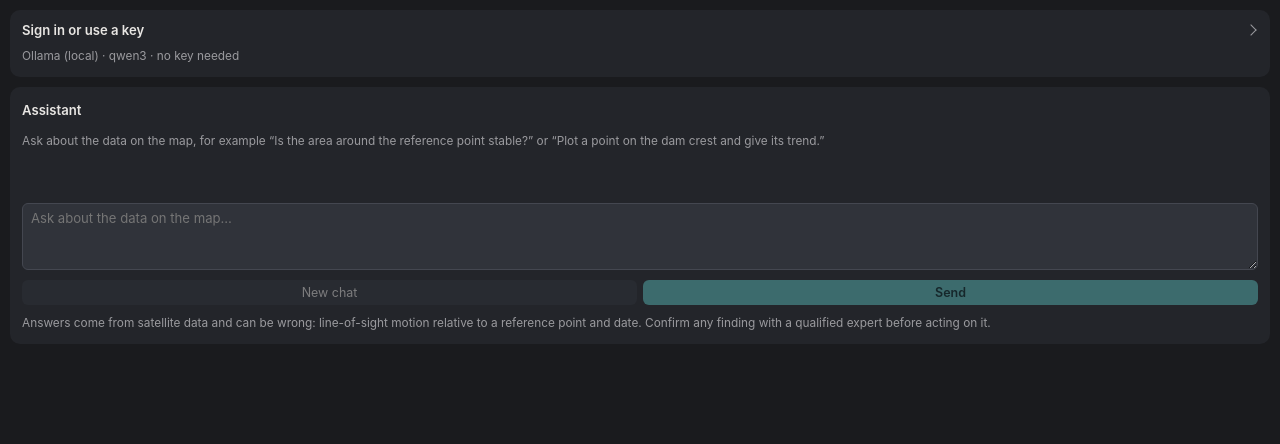
Test: AssistantTab › shows provider errors and starts the next question clean
Step 1. Type "hi" into the text box named "Question" → (640, 237), box left=22, top=203, right=1258, bottom=270
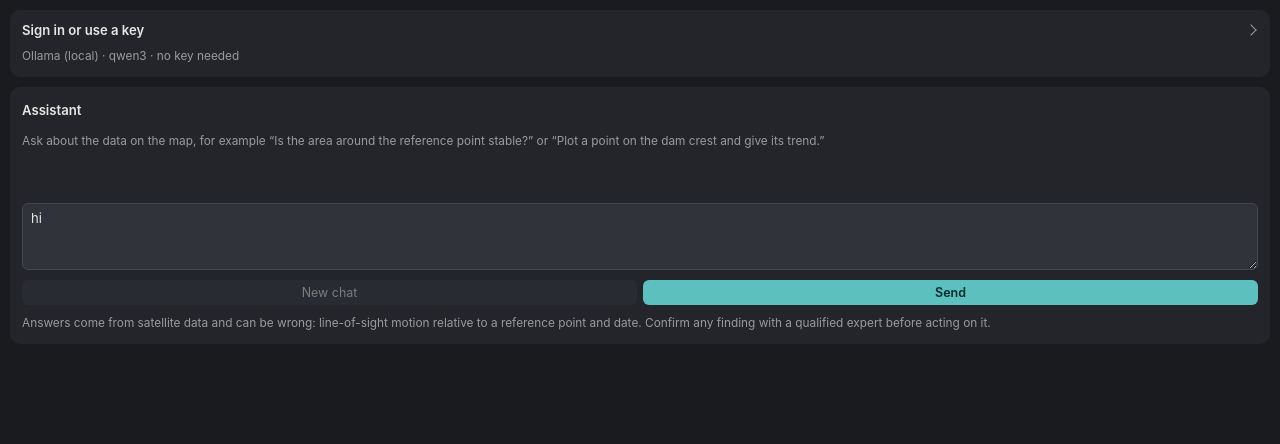
Step 2. Click the button "Send" → (950, 293), box left=643, top=280, right=1258, bottom=305
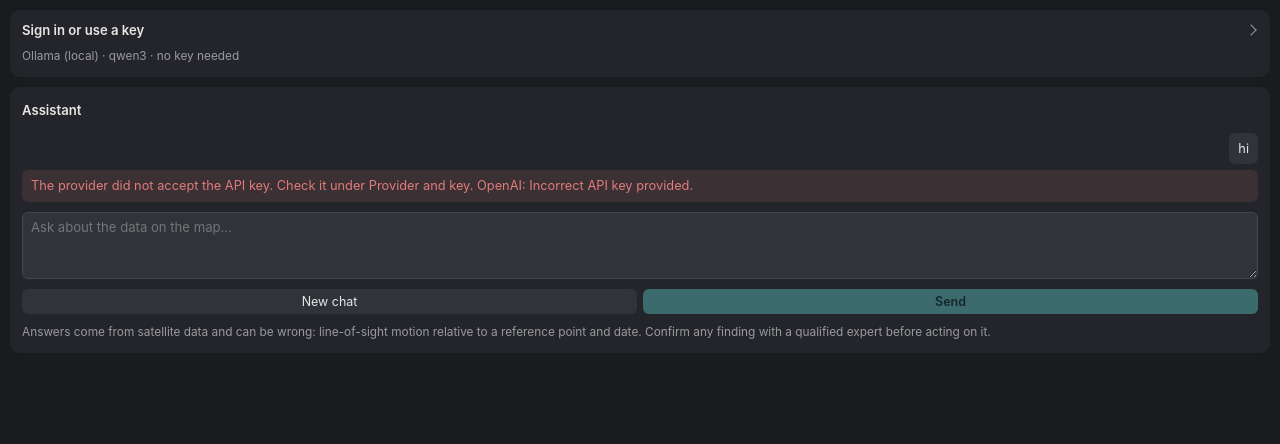
Expected: the message shows "did not accept the API key", left=31, top=178, right=693, bottom=193
Expected: the message shows "Incorrect API key", left=31, top=178, right=693, bottom=193
Step 3. Type "hello again" into the text box named "Question" → (640, 245), box left=22, top=212, right=1258, bottom=278
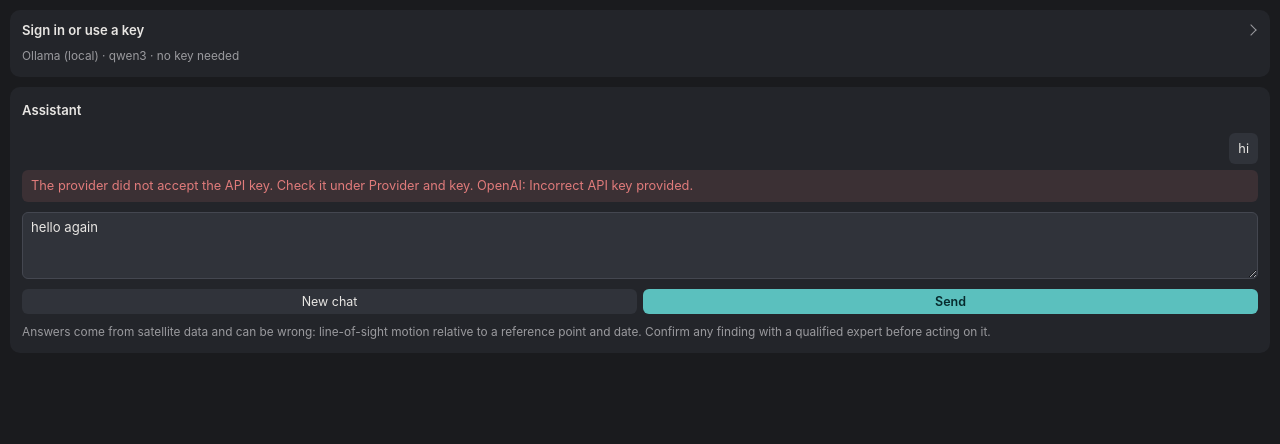
Step 4. Click the button "Send" → (950, 301), box left=643, top=289, right=1258, bottom=314
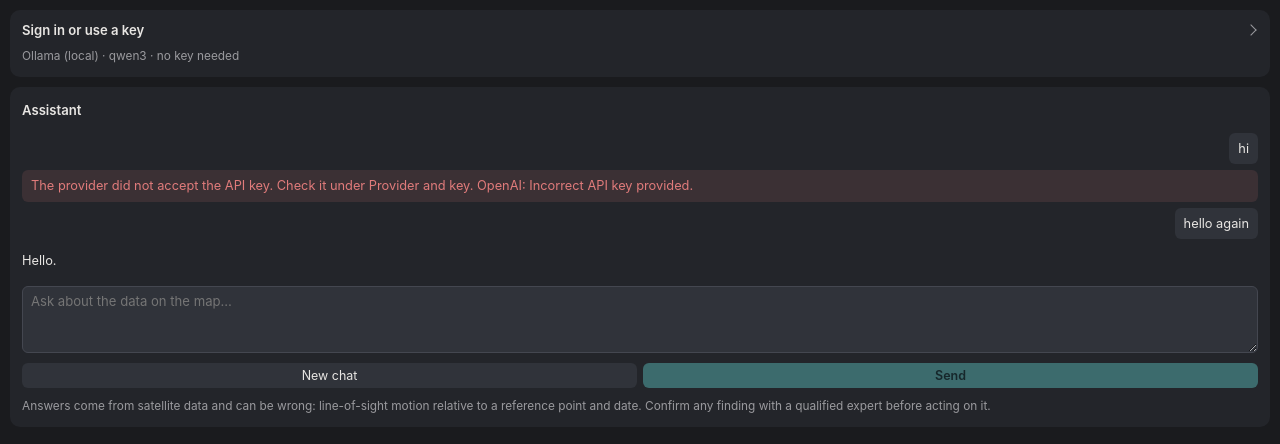
Expected: the text "Hello." is shown, left=22, top=253, right=56, bottom=268
